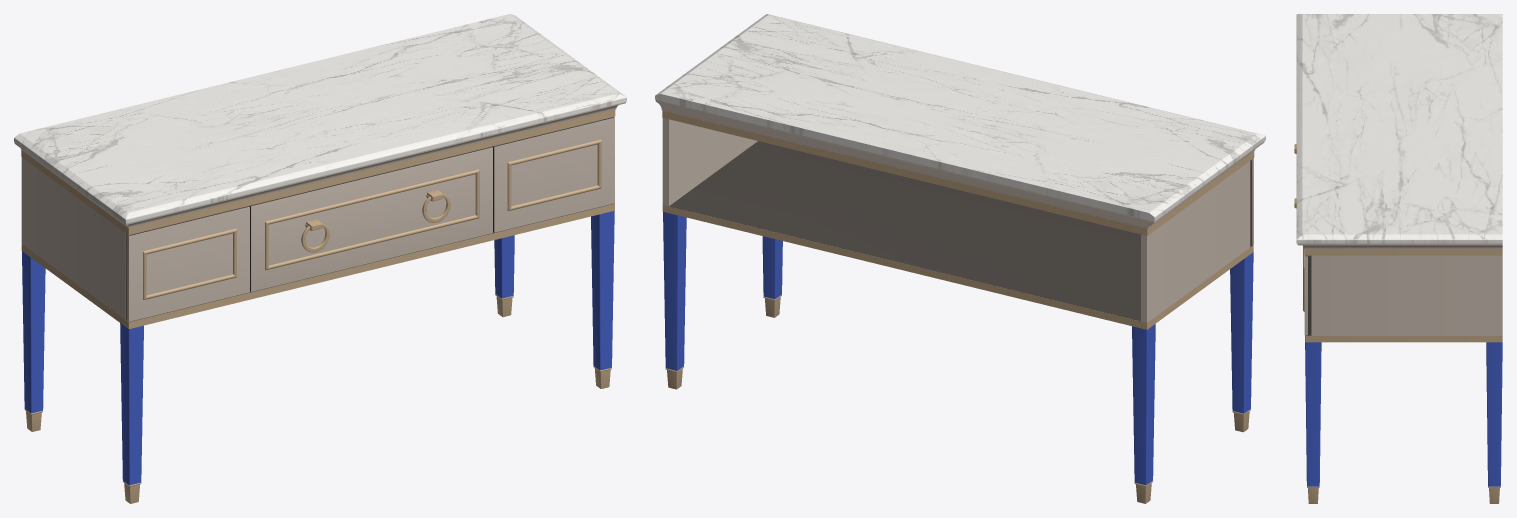
3 renders of one model, left to right at view 1: azimuth 30°, elevation 25°; view 2: azimuth 150°, elevation 25°; view 3: azimuth 270°, elevation 25°, orthographic. The views are drawn at different scales.
Parts seen in each view (by area): view 1: AV03; view 2: AV03; view 3: AV03.
Boxes of the visible parts, left/top/right/bottom form: AV03: left=14, top=14, right=626, bottom=503; AV03: left=655, top=14, right=1265, bottom=503; AV03: left=1294, top=14, right=1502, bottom=503.
Size of the model in its own units: 1.45 by 0.8151 by 0.5664.
Materials: 6 (3 with a texture image).
